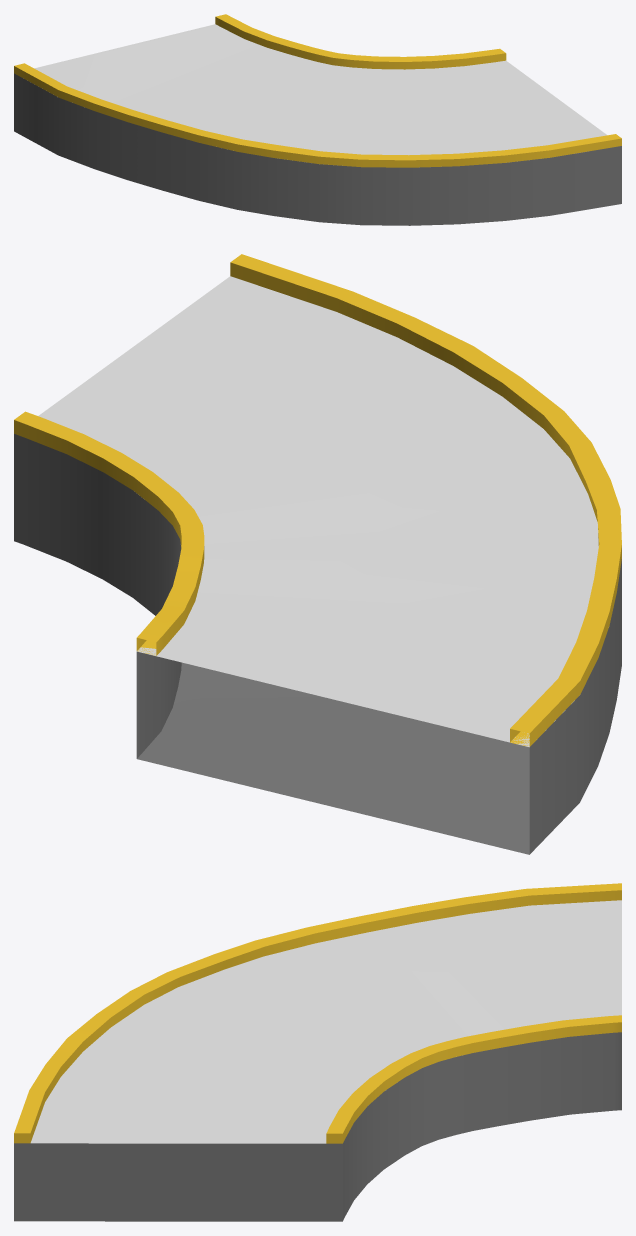
File: plat_left_pivot.fbx
3 renders of one model, top to bottom at view 1: azimuth 30°, elevation 25°; view 2: azimuth 150°, elevation 25°; view 3: azimuth 270°, elevation 25°, orthographic. The views are drawn at different scales.
Visible parts, largest first — view 1: Platform_Left; view 2: Platform_Left; view 3: Platform_Left.
Boxes of the visible parts, box(x1,y1,x2,y2) form: Platform_Left: box(14, 14, 621, 225); Platform_Left: box(14, 254, 621, 854); Platform_Left: box(14, 883, 621, 1221).
Size of the model in its own units: 2149 by 357 by 2205.
